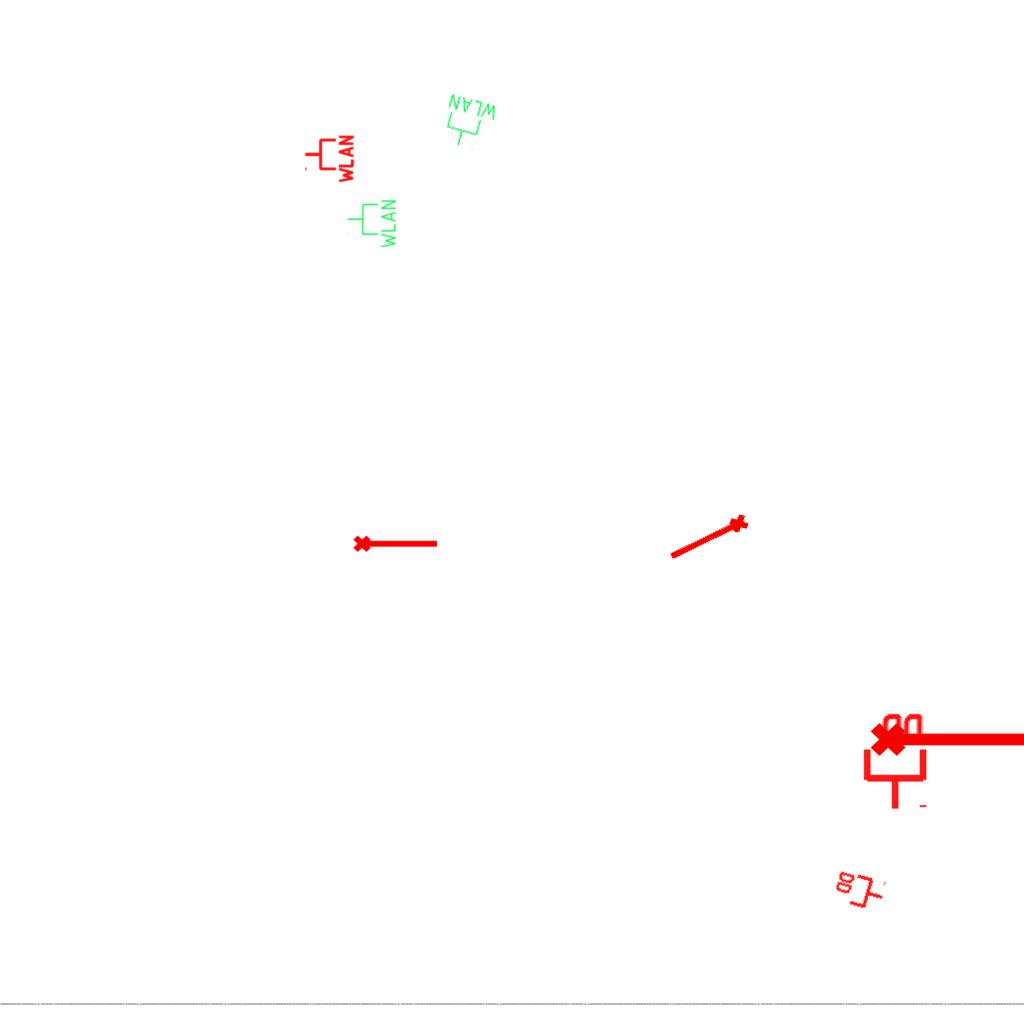ASR_Ansaugoeffnung: (868, 714, 1024, 760), (664, 509, 754, 570), (352, 531, 440, 554)
Datenanschluss_zweifach: (859, 709, 928, 812), (829, 868, 889, 915)
WLAN: (437, 91, 501, 155), (303, 133, 355, 185), (346, 198, 398, 250)
